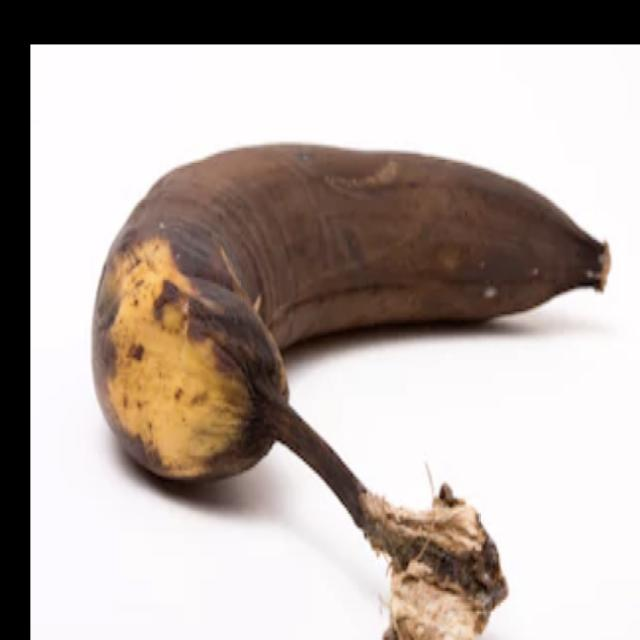Rotten: (66, 95, 640, 638)
